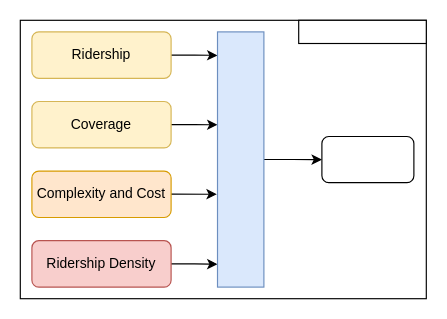
The diagram is 447 pixels wide and 319 high, and some of its shapes have lost their labels. Here are the shapes that lost their labels. From the top down, the centre of each, then its label:
[362,31]: Fitness Function
[367,159]: Fitness Score
